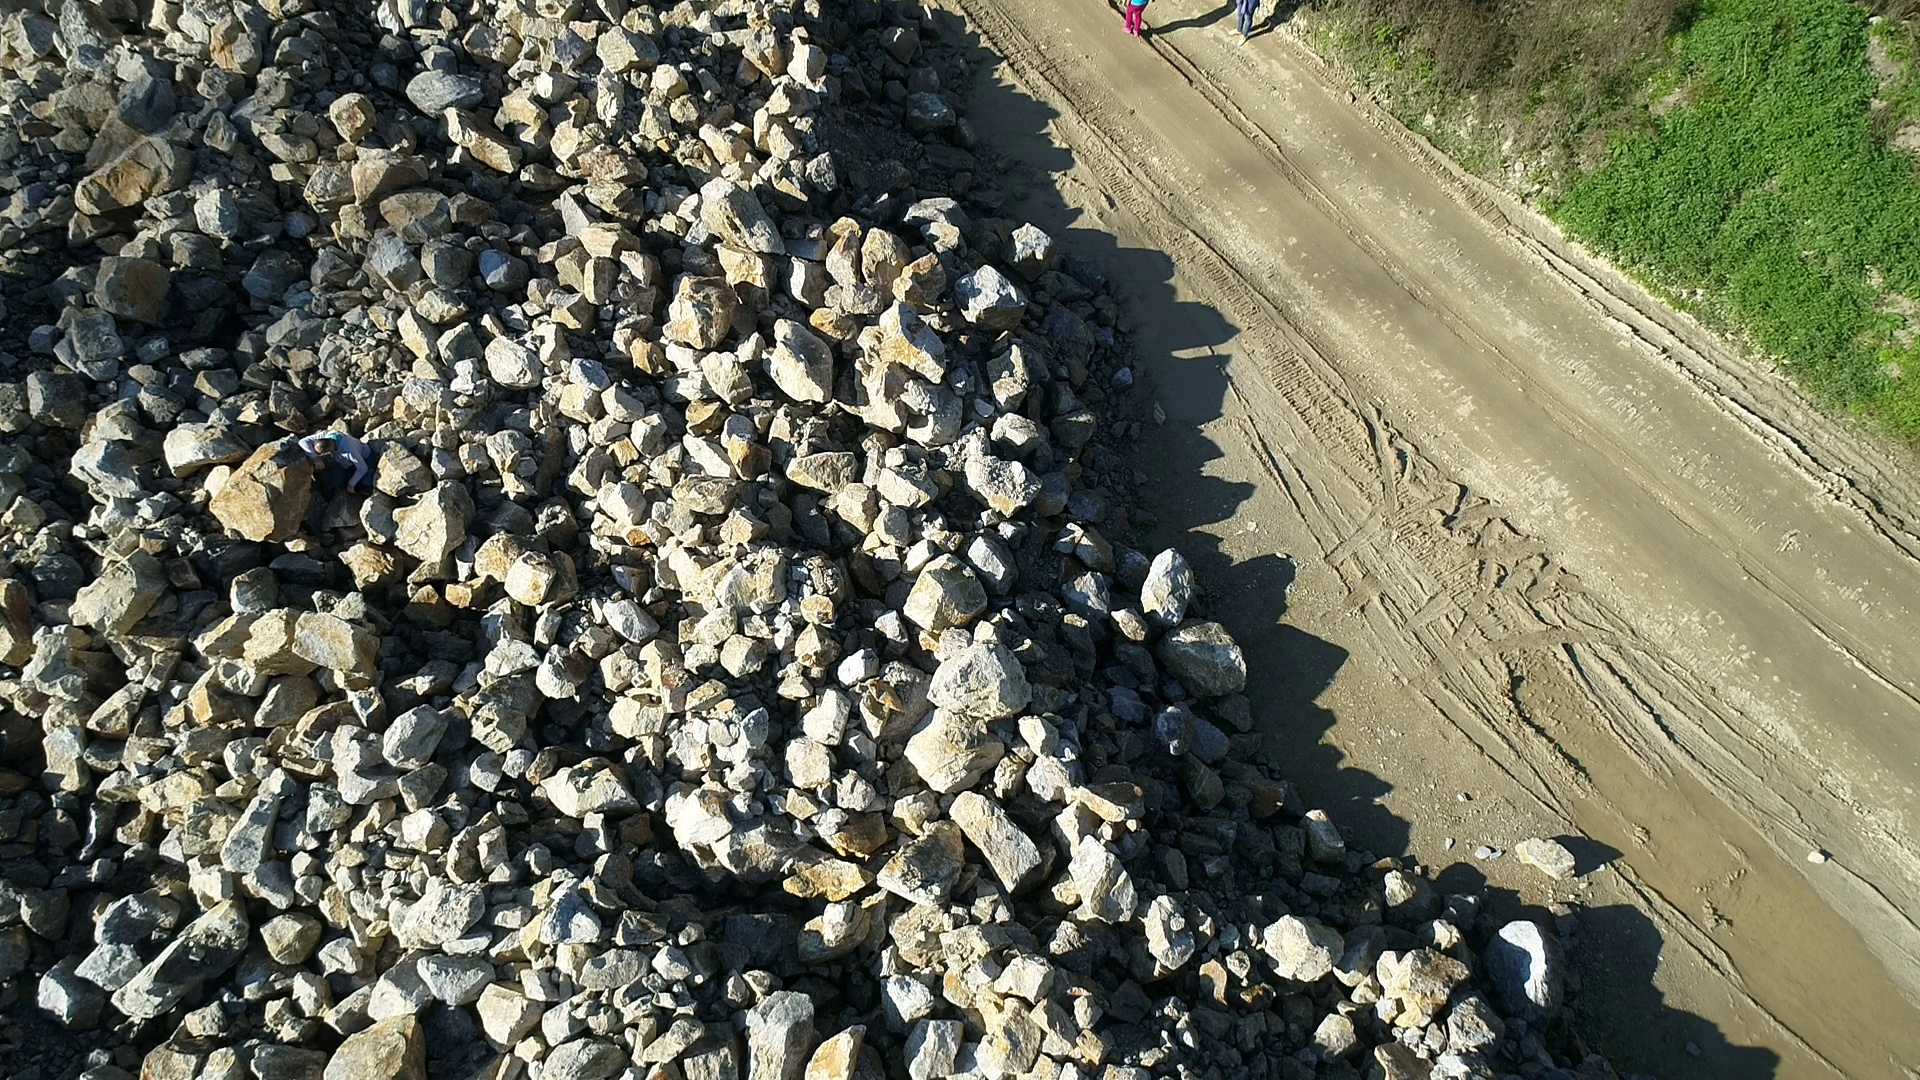person: (297, 429, 370, 493), (1227, 1, 1260, 44), (1121, 1, 1150, 39)
